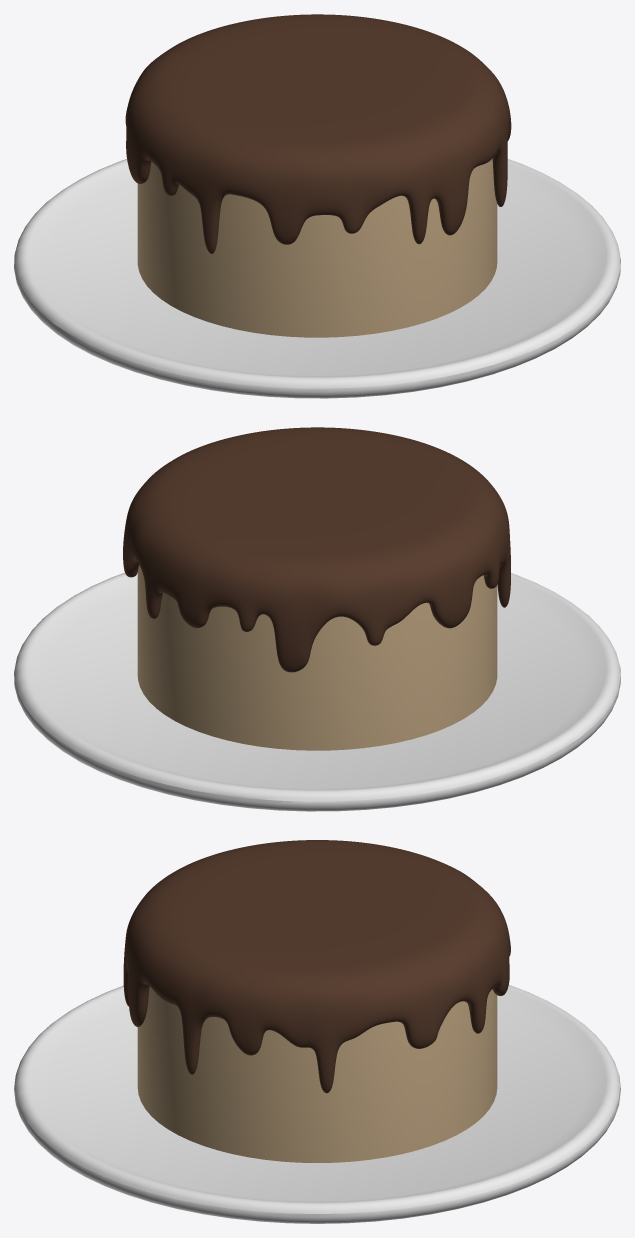
File: bolo.fbx
The picture shows the model from 3 angles, top to bottom: view 1: azimuth 30°, elevation 25°; view 2: azimuth 150°, elevation 25°; view 3: azimuth 270°, elevation 25°; orthographic projection.
Visible parts, largest first — view 1: bolo.001, prato, bolo; view 2: bolo.001, prato, bolo; view 3: bolo.001, prato, bolo.
Boxes of the visible parts, x1,y1,x2,y2 form: bolo.001: (125, 14, 511, 253); prato: (14, 159, 620, 398); bolo: (137, 158, 497, 337); bolo.001: (123, 427, 510, 672); prato: (14, 572, 620, 811); bolo: (137, 565, 497, 750); bolo.001: (123, 840, 510, 1093); prato: (14, 985, 620, 1223); bolo: (137, 987, 497, 1162).
Bounding box in the file's own units: 337 × 123 × 337.
